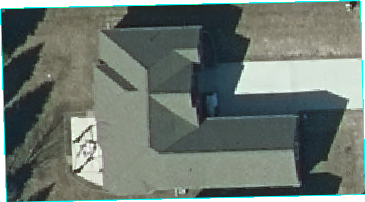house: (88, 23, 306, 194)
